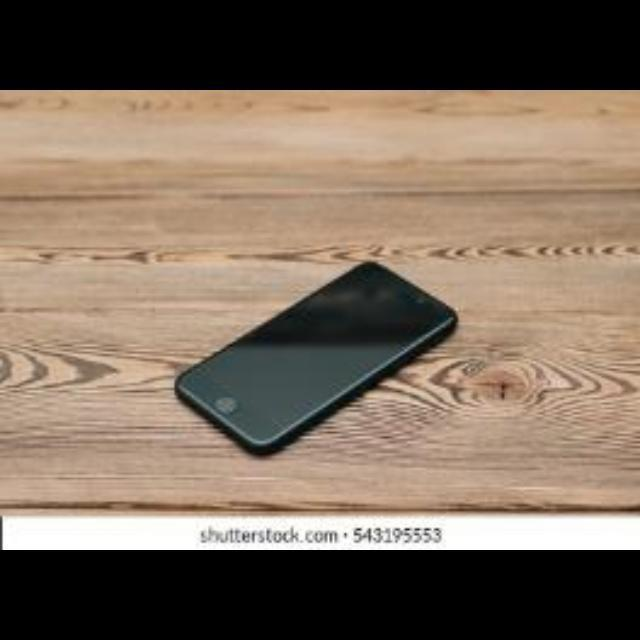PhoneUse: (174, 260, 462, 458)
